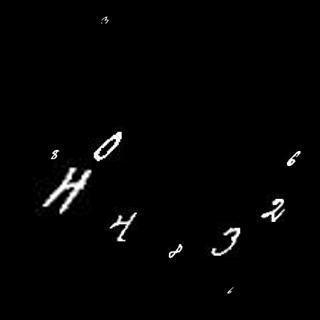eight: (165, 242, 184, 258), (49, 148, 64, 159)
four: (56, 165, 93, 215), (109, 207, 142, 243)
six: (286, 149, 302, 167), (226, 282, 238, 295)
three: (209, 228, 241, 260), (98, 13, 111, 28)
two: (258, 197, 288, 227)
zero: (91, 127, 126, 164)
